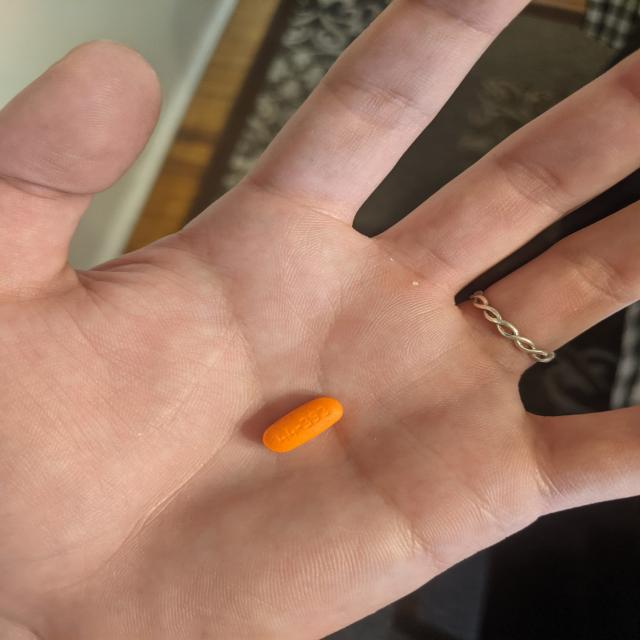non-organic waste: (261, 396, 345, 453)
